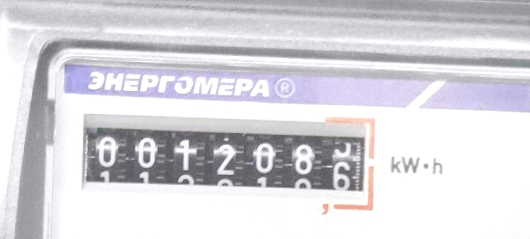0: (252, 138, 277, 174), (135, 132, 159, 169), (97, 131, 118, 168)
1: (176, 135, 193, 172)
2: (213, 140, 239, 176)
6: (329, 156, 353, 191)
8: (291, 140, 314, 177)
screen: (71, 100, 385, 225)
